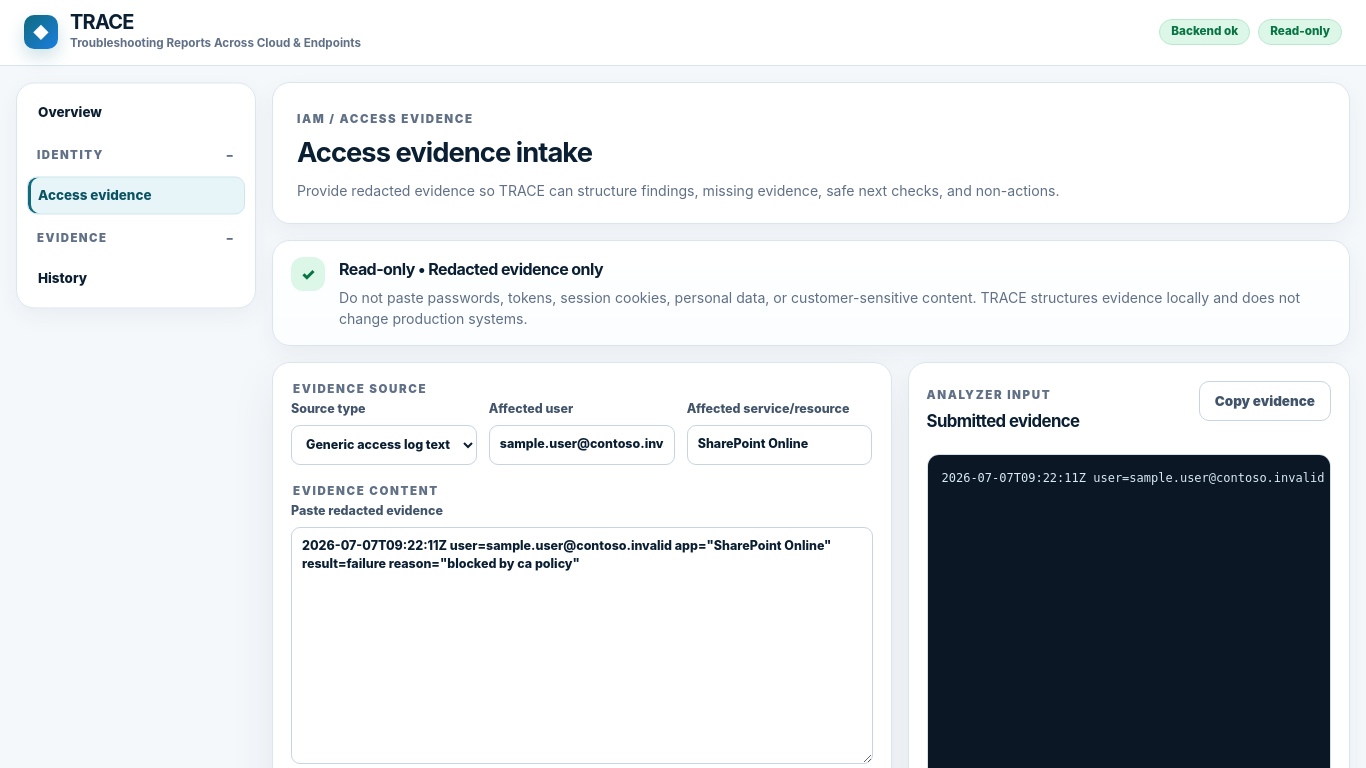
TRACE rebuilt operator shell › shows diagnostic history from the backend
Expected: the text "Backend ok" is shown, top-left (1159, 19), bottom-right (1250, 45)
Click the button "History": (136, 278) top-left (27, 259), bottom-right (245, 298)
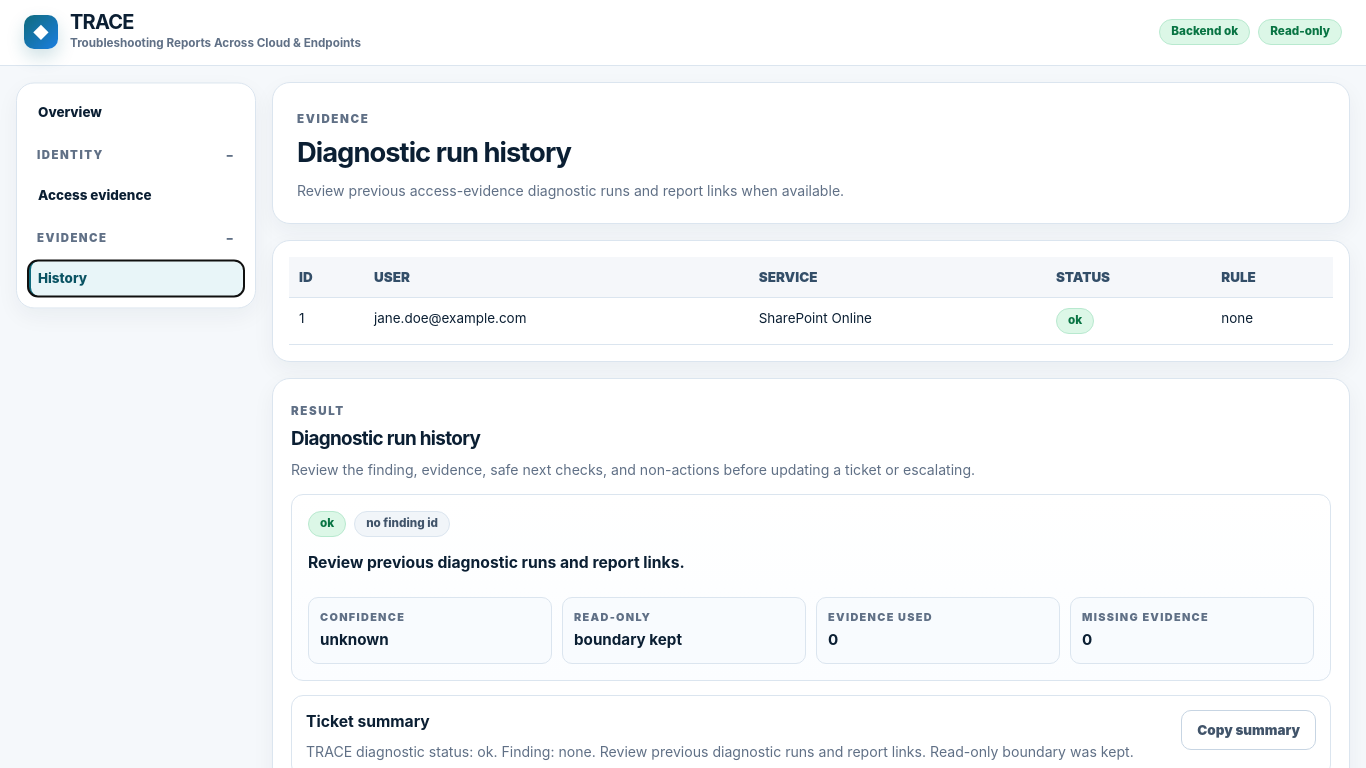
Result: the 1st heading "Diagnostic run history" is shown at top-left (297, 136), bottom-right (571, 168)
Result: the text "jane.doe@example.com" is shown at top-left (364, 297), bottom-right (749, 344)
